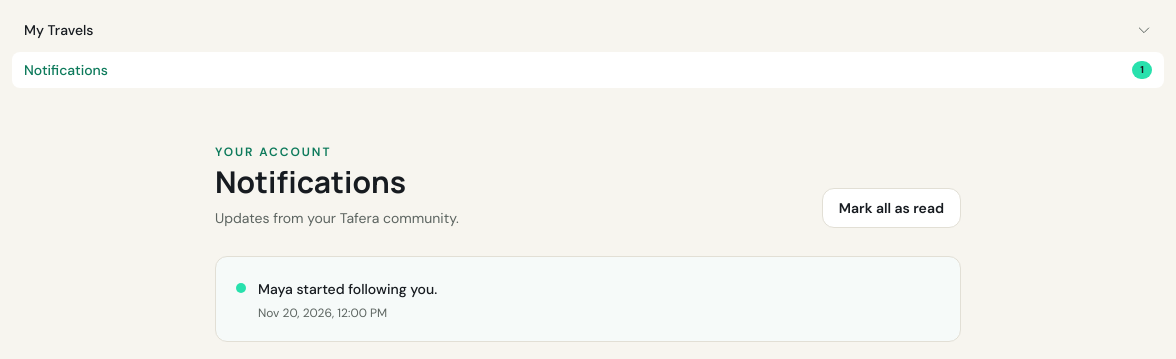
Scenario: Notifications page › marks all notifications read using the existing bulk endpoint and clears the sidebar count
Expected: the text named "1 unread notifications" is shown, [1132,61,1152,79]
Expected: the link "Maya started following you." is shown, [258,280,437,298]
Click the button "Mark all as read" at point(891, 208), box [822,188,961,228]
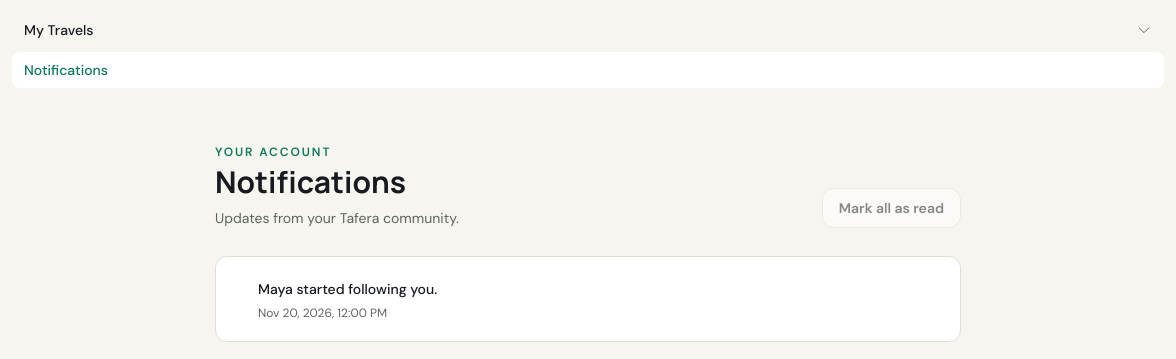
Expected: the button "Mark all as read" is disabled, [822,188,961,228]
